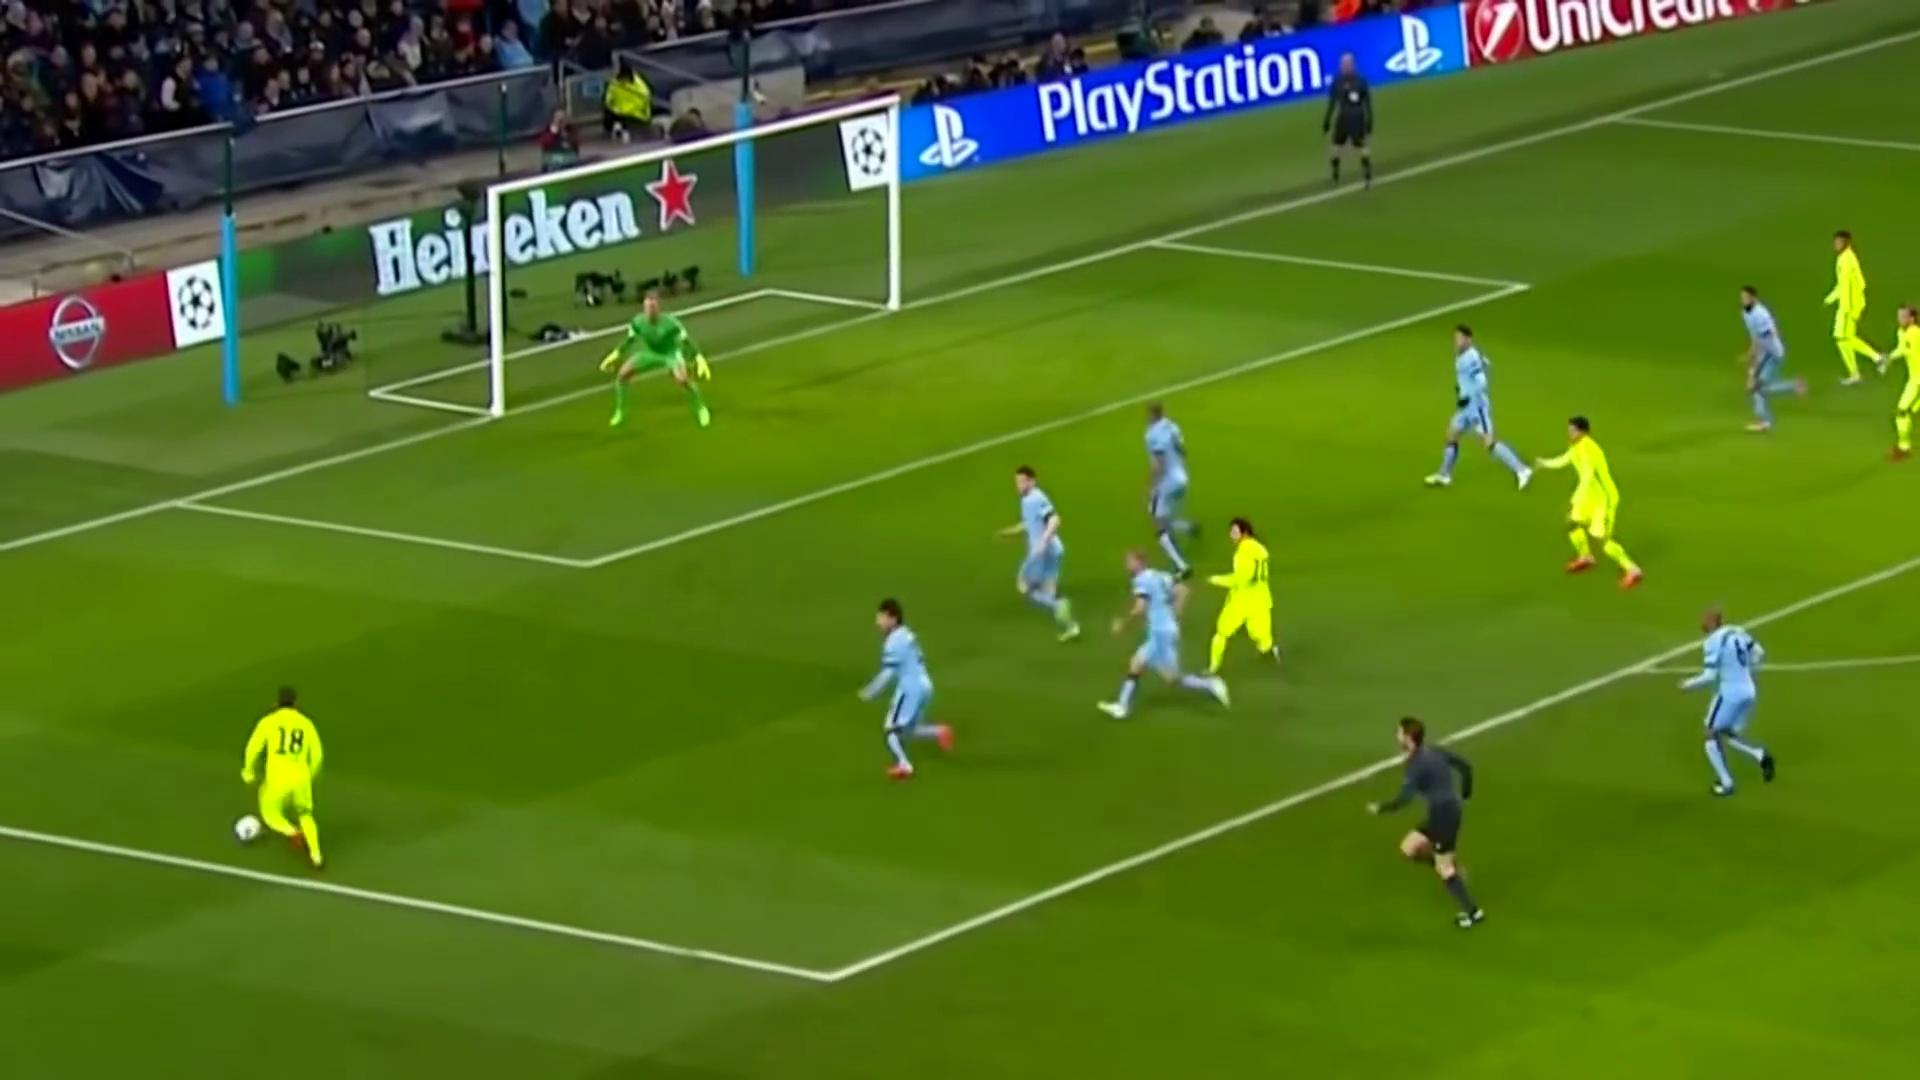ball: (228, 811, 269, 849)
goalkeeper: (595, 285, 722, 431)
player: (1091, 545, 1233, 725), (1671, 605, 1784, 799), (1531, 410, 1649, 595), (1420, 318, 1537, 495), (854, 595, 958, 782), (990, 461, 1086, 646), (238, 679, 328, 872), (1197, 513, 1295, 680), (1136, 396, 1206, 587), (1818, 225, 1893, 390), (1732, 281, 1810, 436), (1875, 297, 1920, 466)
referee: (1363, 711, 1495, 939), (1316, 51, 1382, 200)
